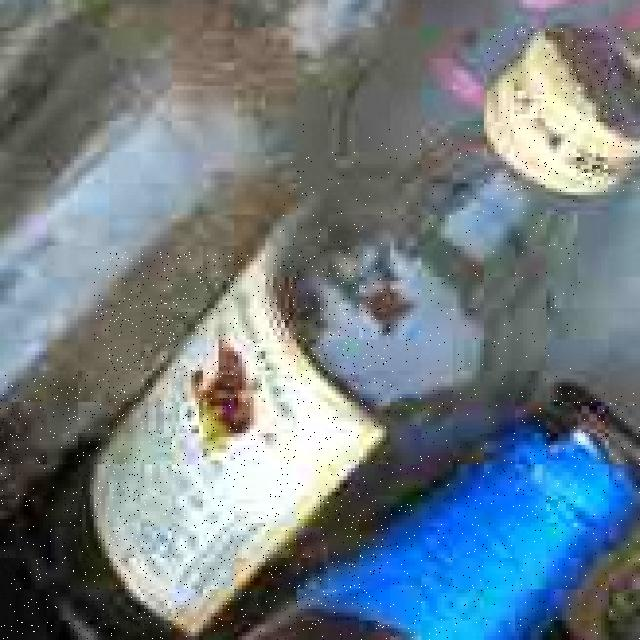glass: (277, 123, 581, 562), (240, 385, 640, 640), (0, 375, 195, 640)
metal: (488, 26, 639, 192)
paper: (94, 252, 386, 632)
